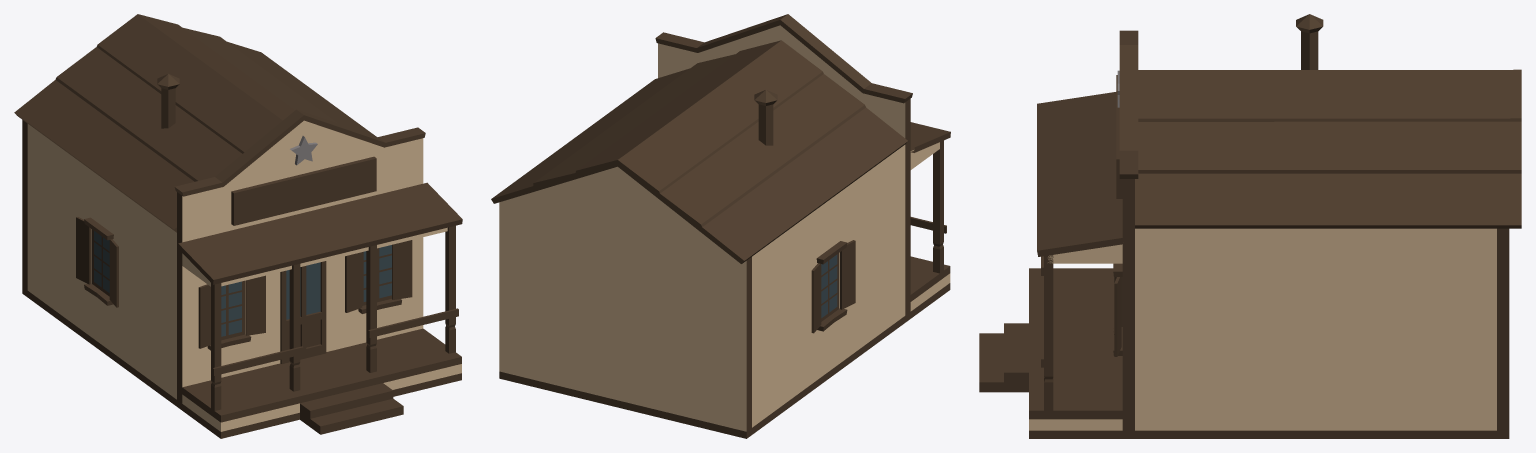
File: western_scheriff-western.fbx
The picture shows the model from 3 angles, left to right: view 1: azimuth 30°, elevation 25°; view 2: azimuth 150°, elevation 25°; view 3: azimuth 270°, elevation 25°; orthographic projection. The views are drawn at different scales.
Parts seen in each view (by area): view 1: western_scheriff_western; view 2: western_scheriff_western; view 3: western_scheriff_western.
Part boxes in pixels (<box>): western_scheriff_western: <box>14,14,462,438</box>; western_scheriff_western: <box>491,14,950,438</box>; western_scheriff_western: <box>979,14,1521,438</box>.
Bounding box in the file's own units: 130 × 131 × 200.
